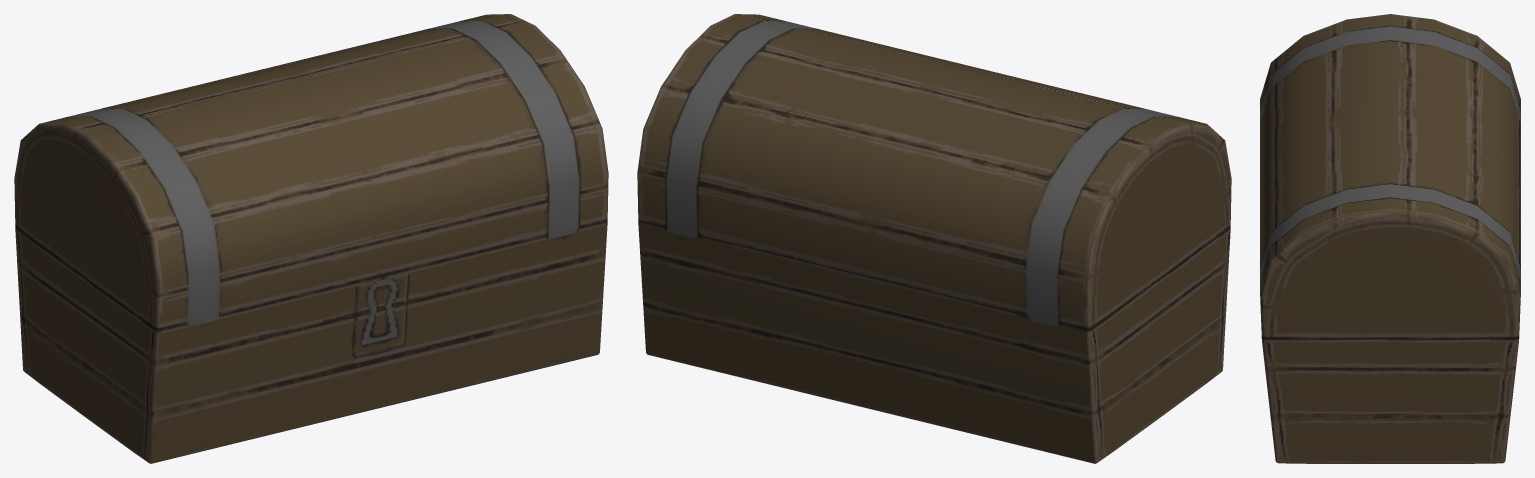
The model's file is treasureChest.fbx.
3 views of the same model, side by side, from view 1: azimuth 30°, elevation 25°; view 2: azimuth 150°, elevation 25°; view 3: azimuth 270°, elevation 25° (orthographic). The views are drawn at different scales.
Visible parts, largest first — view 1: treasureChest; view 2: treasureChest; view 3: treasureChest.
Part boxes in pixels (x1,y1,x2,y2): treasureChest: (14,14,608,463); treasureChest: (637,14,1231,463); treasureChest: (1260,14,1520,463).
Size of the model in its own units: 3.43 by 2.05 by 1.9.
Materials: 1 (1 with a texture image).
